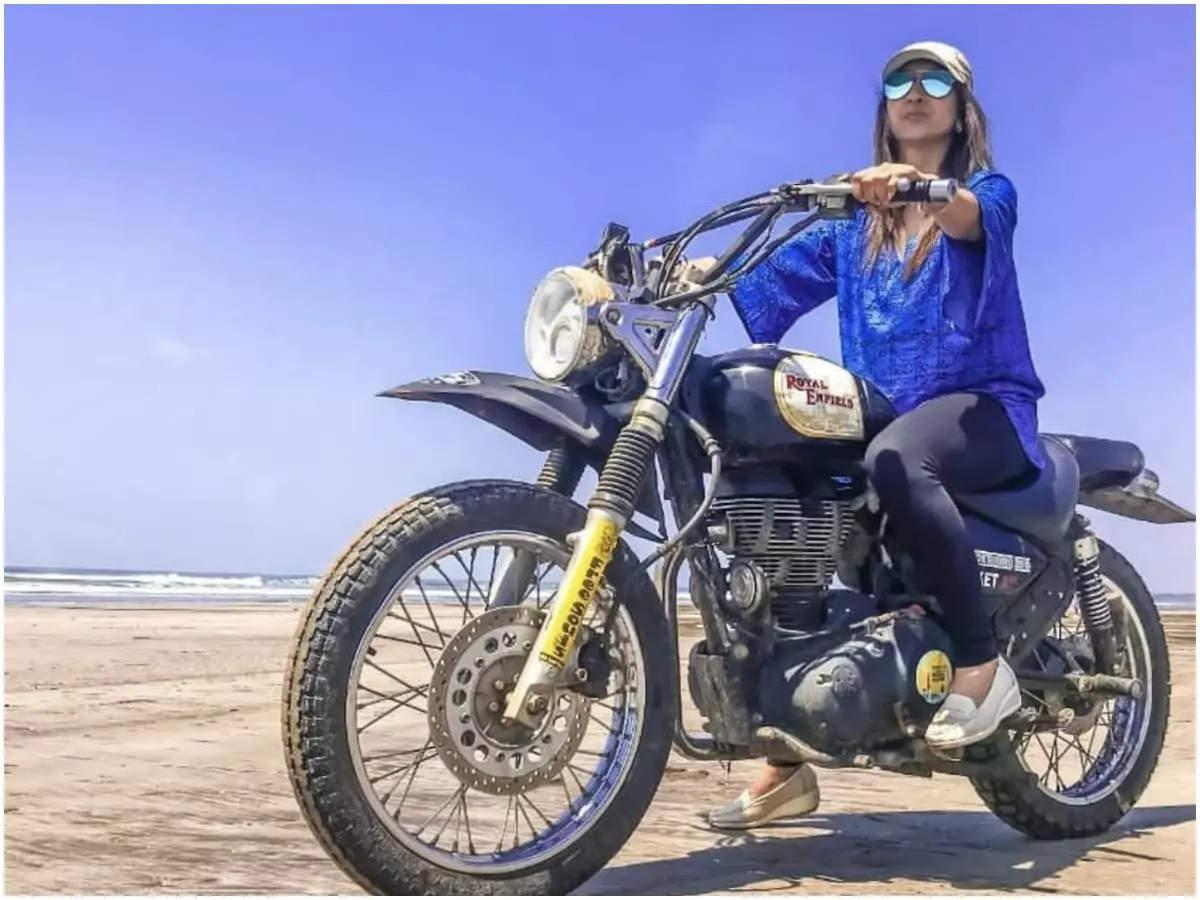nohelmet: (875, 40, 979, 169)
